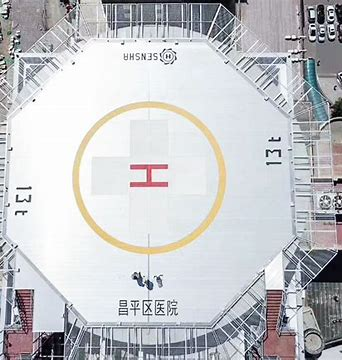H: (130, 163, 169, 188)
